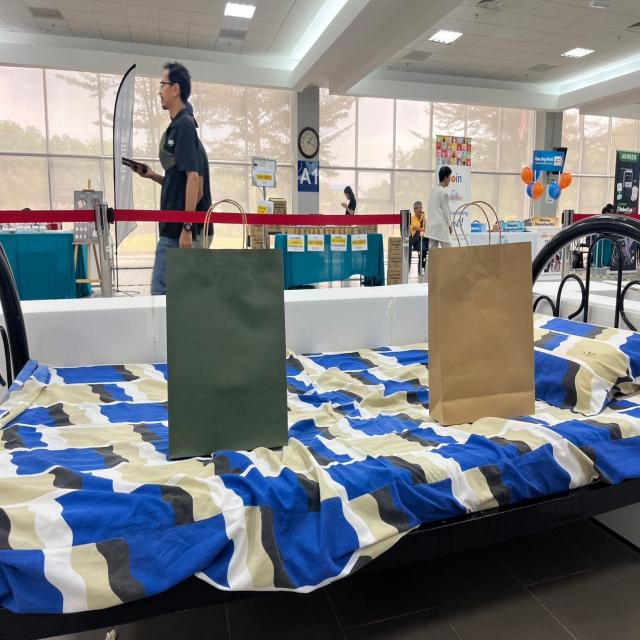bag: (172, 195, 280, 453), (438, 185, 532, 410)
